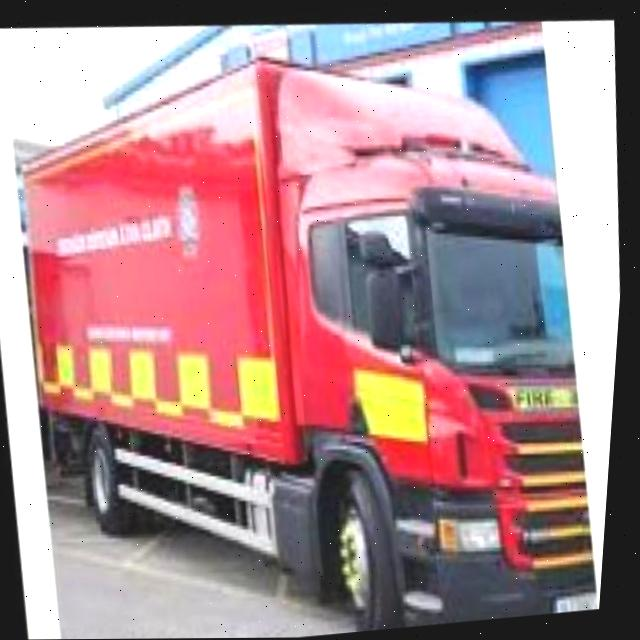emergency: (0, 24, 632, 640)
